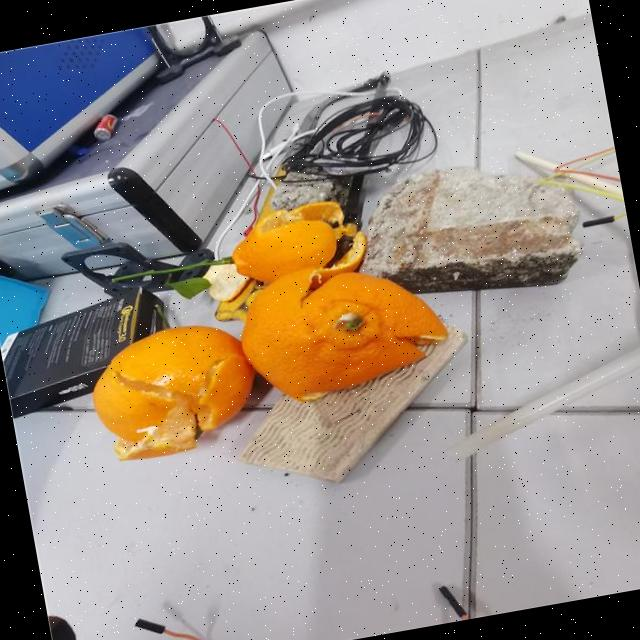orange-peel: (63, 177, 460, 465), (230, 244, 454, 410), (81, 312, 264, 465)
